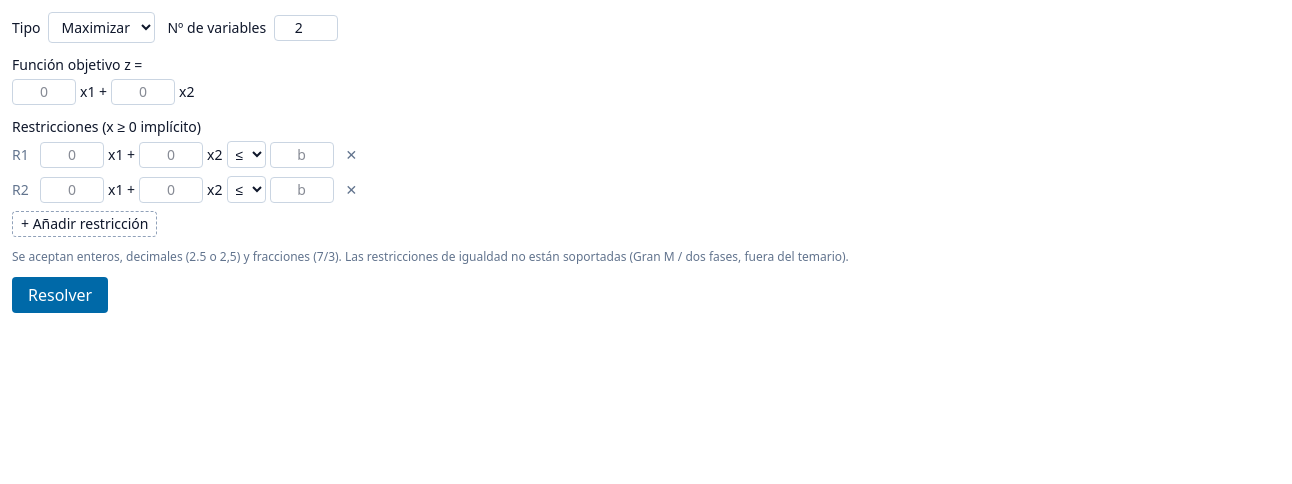
Test: FormularioGuiado › muestra un error accesible si la entrada es inválida
Type "abc" into the field named "Coeficiente de x1 en z".
click(44, 92); type("abc")  # box 12,79 -> 76,105
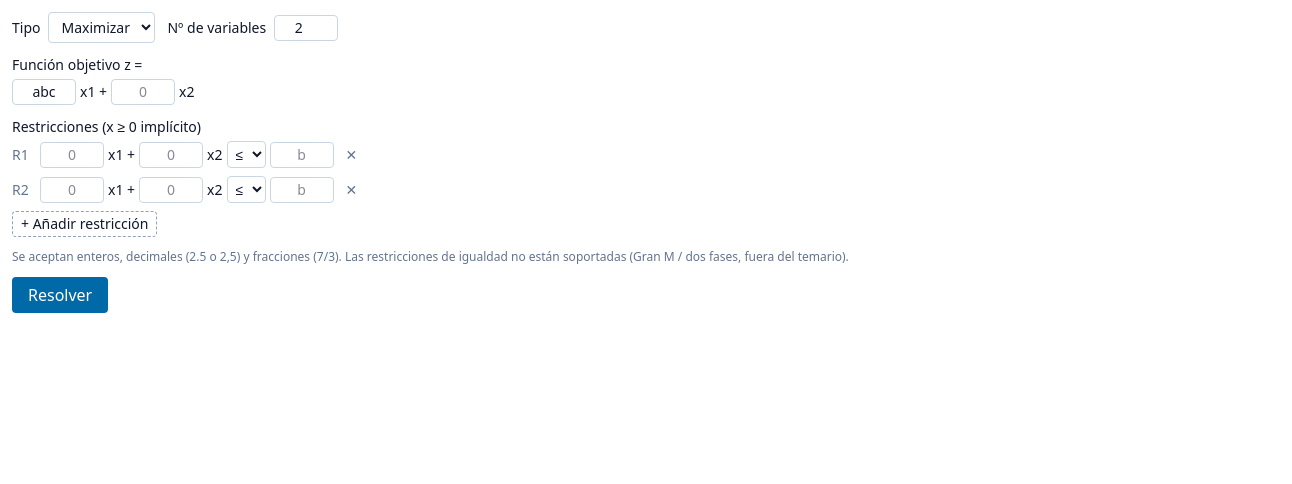
Click the button "Resolver".
click(60, 295)  # box 12,277 -> 108,313
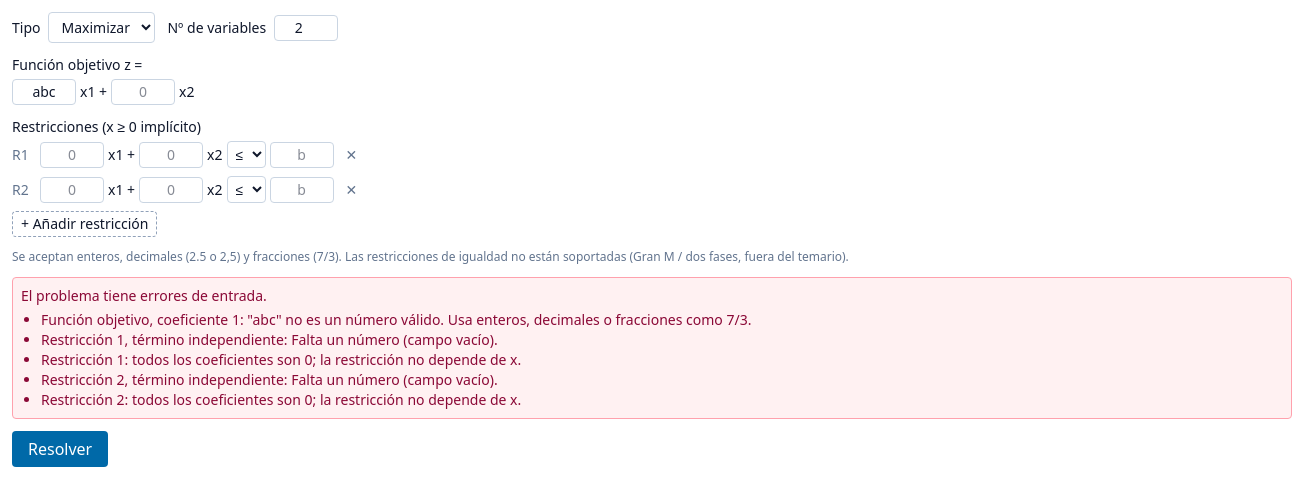
Expected: the message is shown, 12,277 -> 1291,419
